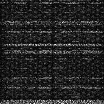lte: (1, 99, 104, 104), (1, 20, 103, 25), (1, 43, 104, 46), (1, 50, 104, 53), (1, 30, 104, 33), (1, 86, 104, 89)
